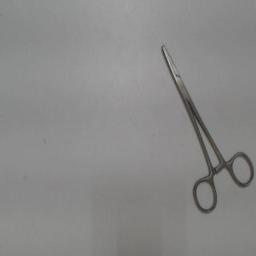Mayo Needle Holder: (152, 30, 256, 220)
